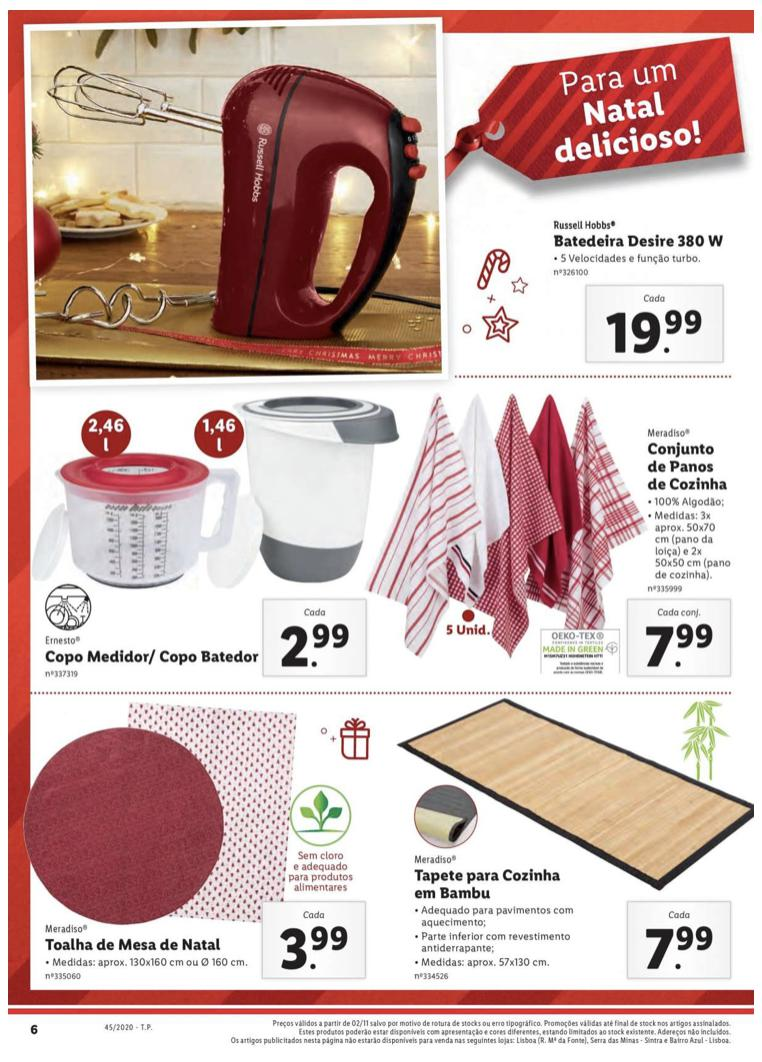name: (40, 644, 265, 670), (407, 866, 564, 903), (644, 439, 735, 494), (41, 932, 223, 956), (546, 232, 728, 252)
price: (604, 307, 710, 361), (640, 620, 720, 673), (276, 618, 350, 675), (637, 923, 719, 974), (277, 922, 353, 973)
product: (39, 48, 745, 369), (377, 387, 752, 686), (389, 697, 752, 986), (33, 387, 377, 686), (35, 698, 377, 983)
